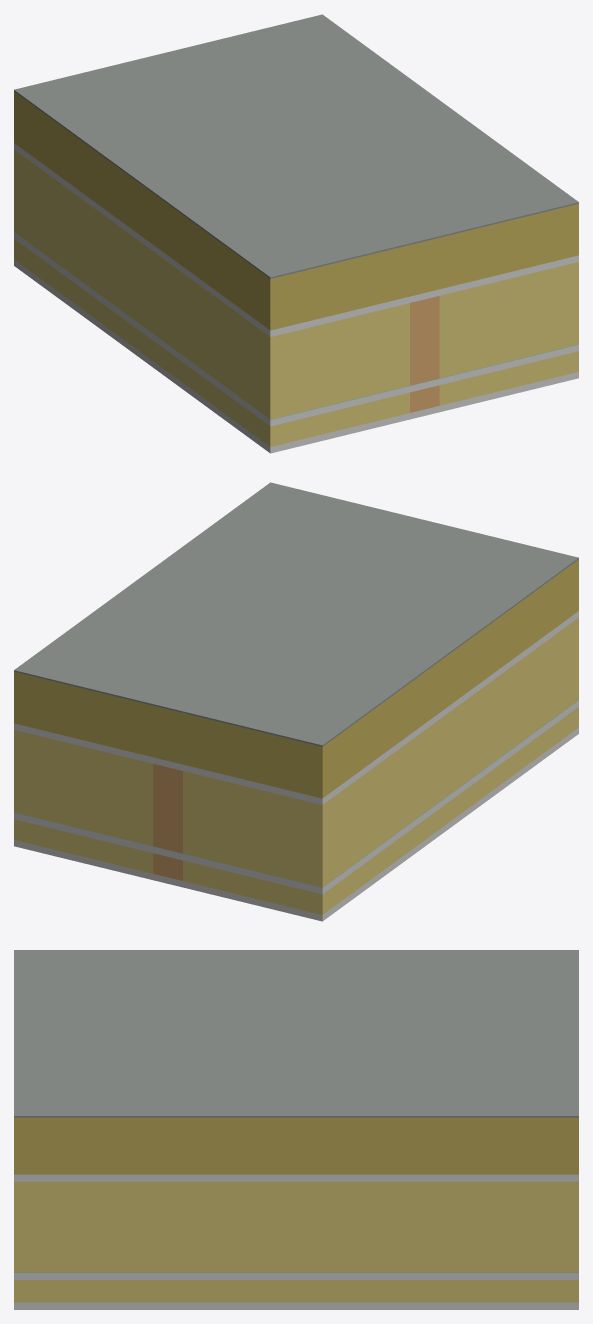
Rendered from panel_1_1.obj.
The picture shows the model from 3 angles, top to bottom: view 1: azimuth 30°, elevation 25°; view 2: azimuth 150°, elevation 25°; view 3: azimuth 270°, elevation 25°; orthographic projection. The views are drawn at different scales.
Visible parts, largest first — view 1: L10_solid, L07_infill_left, L09_solid, L07_infill_right, L03_infill_left, L04_solid, L08_solid, L01_solid, L03_infill_right, L06_stud_center, L02_stud_center; view 2: L10_solid, L07_infill_left, L09_solid, L07_infill_right, L03_infill_left, L04_solid, L08_solid, L01_solid, L03_infill_right, L06_stud_center, L02_stud_center; view 3: L10_solid, L07_infill_right, L09_solid, L03_infill_right, L01_solid, L08_solid, L04_solid, L05_solid.
Boxes of the visible parts, x1,y1,x2,y2 form: L10_solid: [14, 14, 578, 278]; L07_infill_left: [14, 149, 409, 419]; L09_solid: [14, 91, 578, 330]; L07_infill_right: [439, 262, 578, 378]; L03_infill_left: [14, 239, 409, 446]; L04_solid: [14, 232, 578, 426]; L08_solid: [14, 143, 578, 336]; L01_solid: [14, 259, 578, 453]; L03_infill_right: [439, 351, 578, 405]; L06_stud_center: [410, 296, 439, 385]; L02_stud_center: [410, 385, 439, 412]; L10_solid: [14, 482, 578, 746]; L07_infill_left: [183, 617, 578, 887]; L09_solid: [14, 559, 578, 798]; L07_infill_right: [14, 730, 153, 846]; L03_infill_left: [183, 707, 578, 914]; L04_solid: [14, 700, 578, 894]; L08_solid: [14, 611, 578, 804]; L01_solid: [14, 727, 578, 921]; L03_infill_right: [14, 819, 153, 873]; L06_stud_center: [153, 764, 182, 853]; L02_stud_center: [153, 853, 182, 880]; L10_solid: [14, 950, 578, 1117]; L07_infill_right: [14, 1181, 578, 1272]; L09_solid: [14, 1117, 578, 1174]; L03_infill_right: [14, 1280, 578, 1302]; L01_solid: [14, 1302, 578, 1309]; L08_solid: [14, 1174, 578, 1181]; L04_solid: [14, 1273, 578, 1279]; L05_solid: [14, 1272, 578, 1272].
Size of the model in its own units: 625 by 341 by 900.
